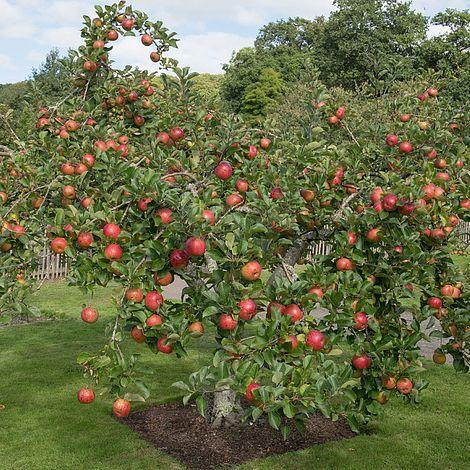apple: (237, 298, 258, 321), (304, 327, 325, 350), (169, 248, 190, 270), (284, 302, 304, 322), (186, 236, 207, 254), (243, 262, 262, 281), (111, 398, 130, 417), (102, 243, 122, 260), (156, 335, 176, 352), (131, 324, 149, 342), (76, 229, 94, 247), (144, 290, 163, 307), (218, 311, 235, 329), (75, 387, 94, 403), (439, 284, 459, 299), (354, 312, 368, 333), (380, 193, 397, 210), (80, 306, 97, 323), (353, 353, 371, 369), (397, 377, 413, 395), (146, 314, 163, 329), (53, 237, 69, 252), (338, 256, 353, 270), (128, 287, 143, 301), (217, 163, 231, 178), (105, 224, 119, 238)
